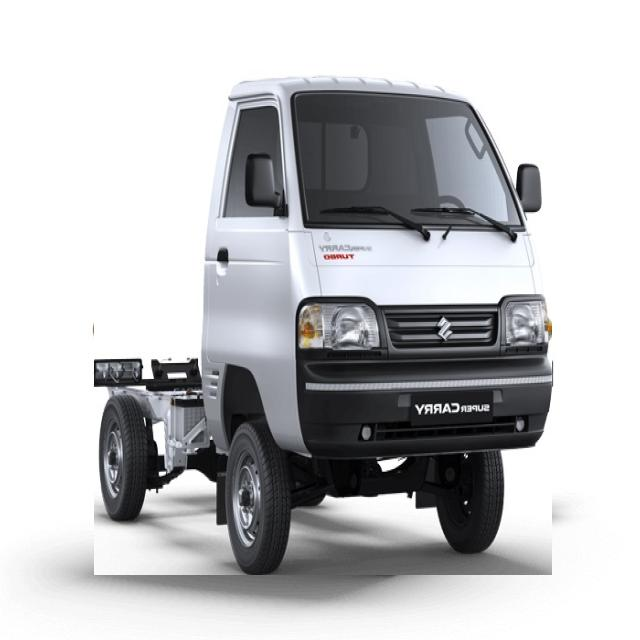truck: (94, 78, 552, 575)
